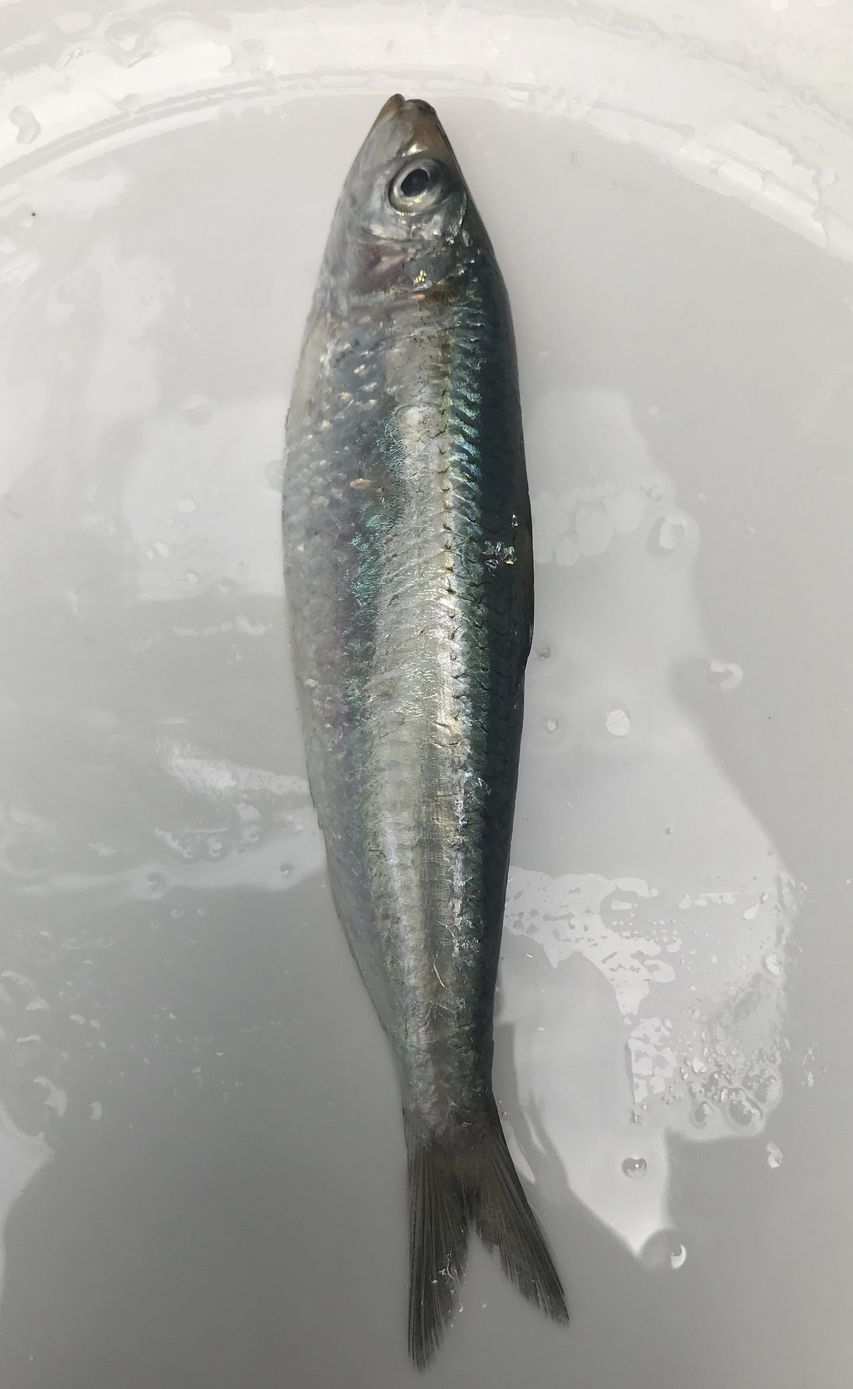tamban_not_dried: (0, 94, 779, 1389), (672, 1181, 717, 1223)
